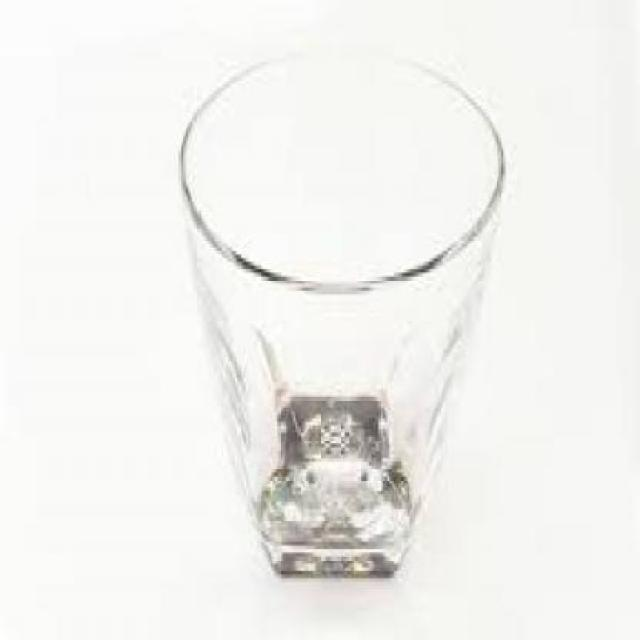kaca: (177, 44, 501, 576)
